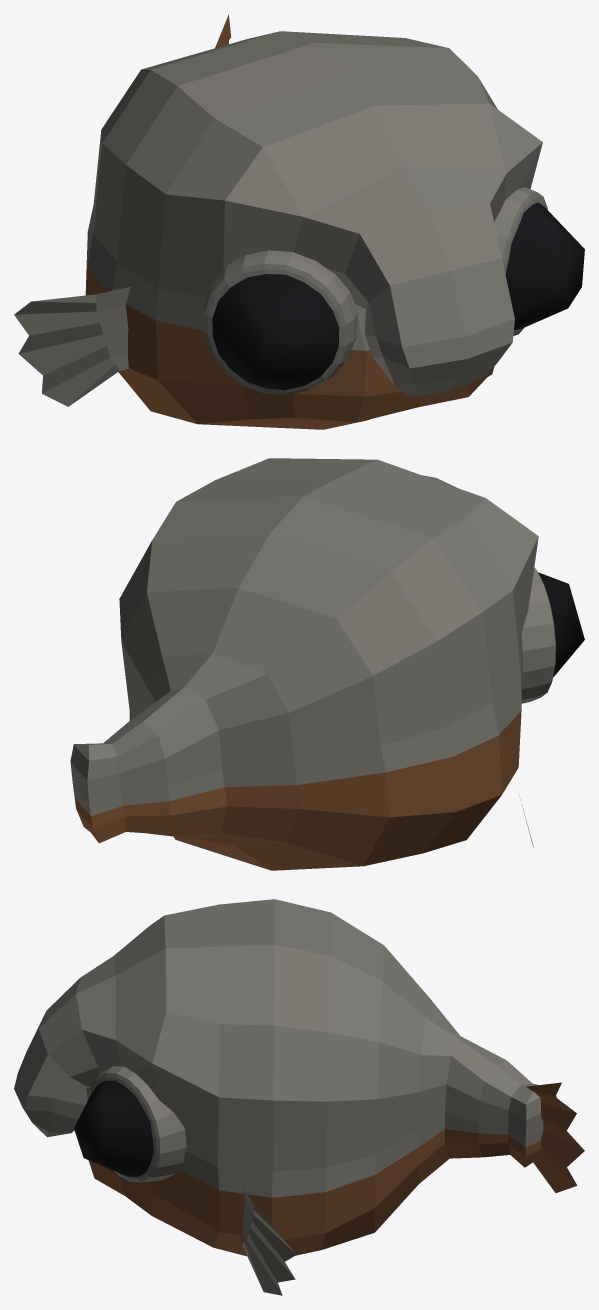
File: cc0-blobfish-lod1.glb
3 renders of one model, top to bottom at view 1: azimuth 30°, elevation 25°; view 2: azimuth 150°, elevation 25°; view 3: azimuth 270°, elevation 25°, orthographic. The views are drawn at different scales.
Parts seen in each view (by area): view 1: part_0; view 2: part_0; view 3: part_0.
Part boxes in pixels (box(x1,y1,x2,y2)): part_0: box(14, 14, 584, 429); part_0: box(70, 458, 584, 870); part_0: box(14, 899, 584, 1295).
Size of the model in its own units: 3.38 by 2.33 by 4.24.
